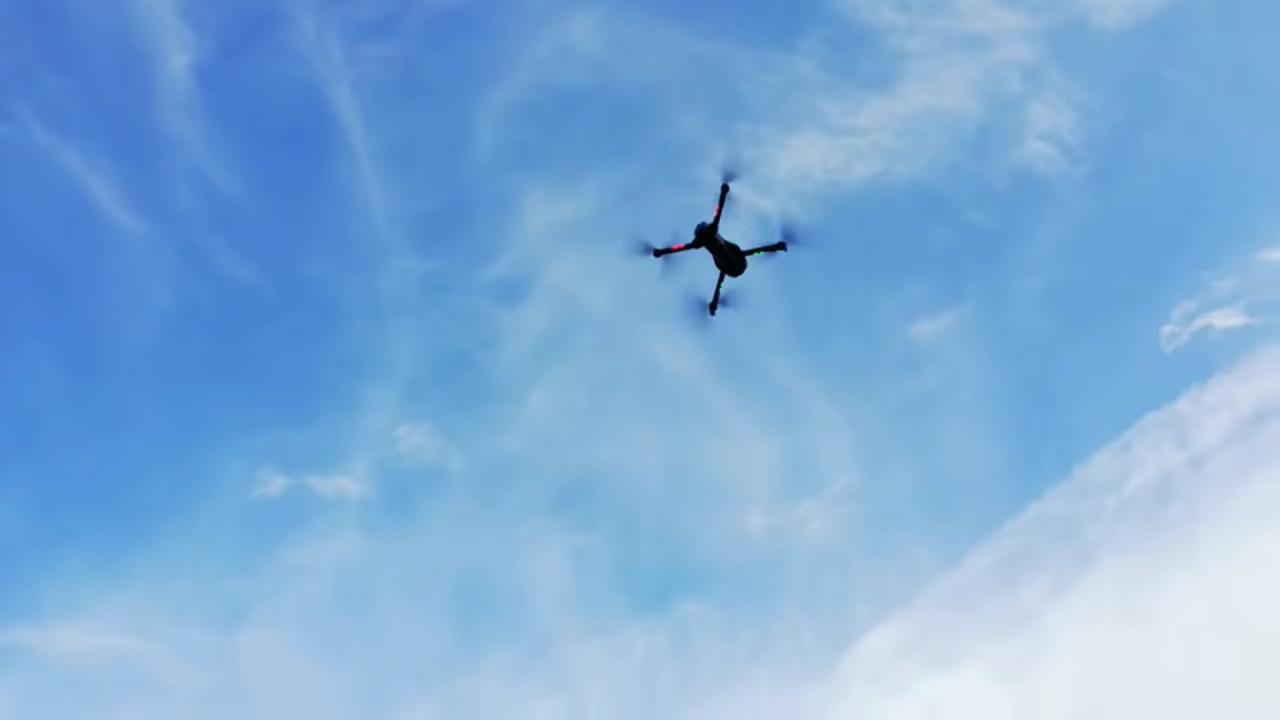Drone: (618, 153, 826, 336)
